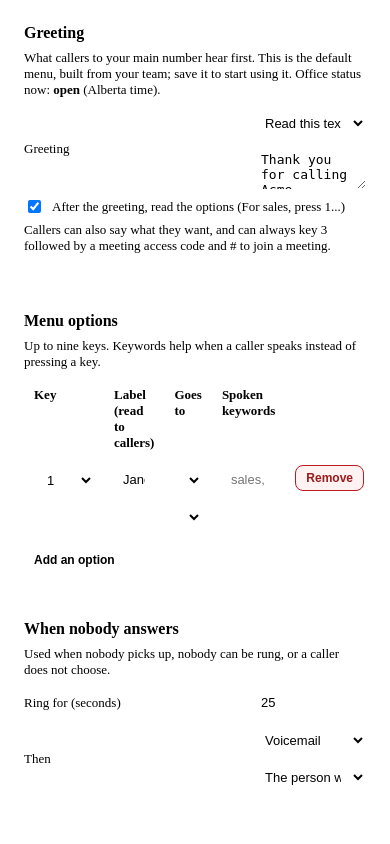
Test: Phone menu › shows the menu built from the team and saves it with the spoken greeting
Expected: the number of rows with test id "pm-option" is 1, [24, 458, 366, 540]
Expected: the text "This is the default menu, built from your team" is shown, [24, 50, 352, 81]
Click the button "Add an option" at {"x": 74, "y": 560}, box [24, 548, 125, 572]
(page scrolled)
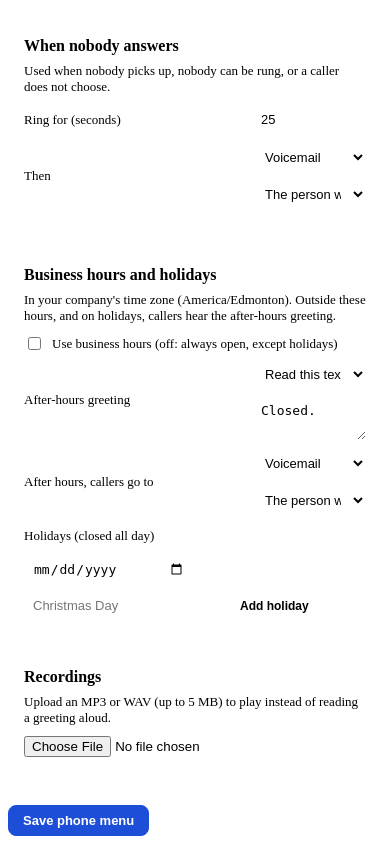
Click the button "Save phone menu" at {"x": 79, "y": 820}, box [8, 805, 149, 836]
(page scrolled)
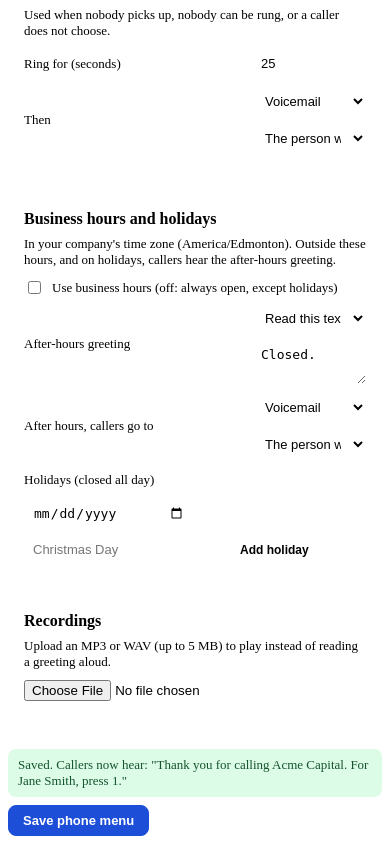
Result: the text "Callers now hear" is shown at [18, 757, 368, 788]
